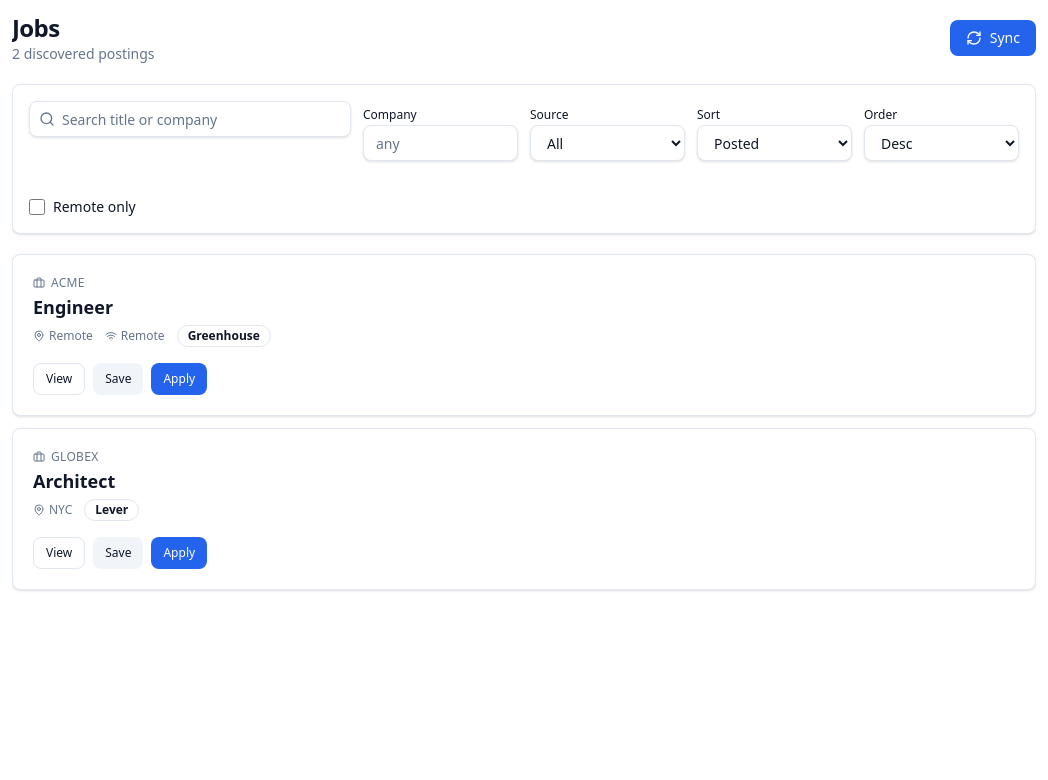
Scenario: Jobs route › client-filters by the search box
Expected: the text "Acme" is shown, 33,274 -> 85,291
Type "Globex" into the field with test id "jobs-search" at (190, 119), box 29,101 -> 351,137
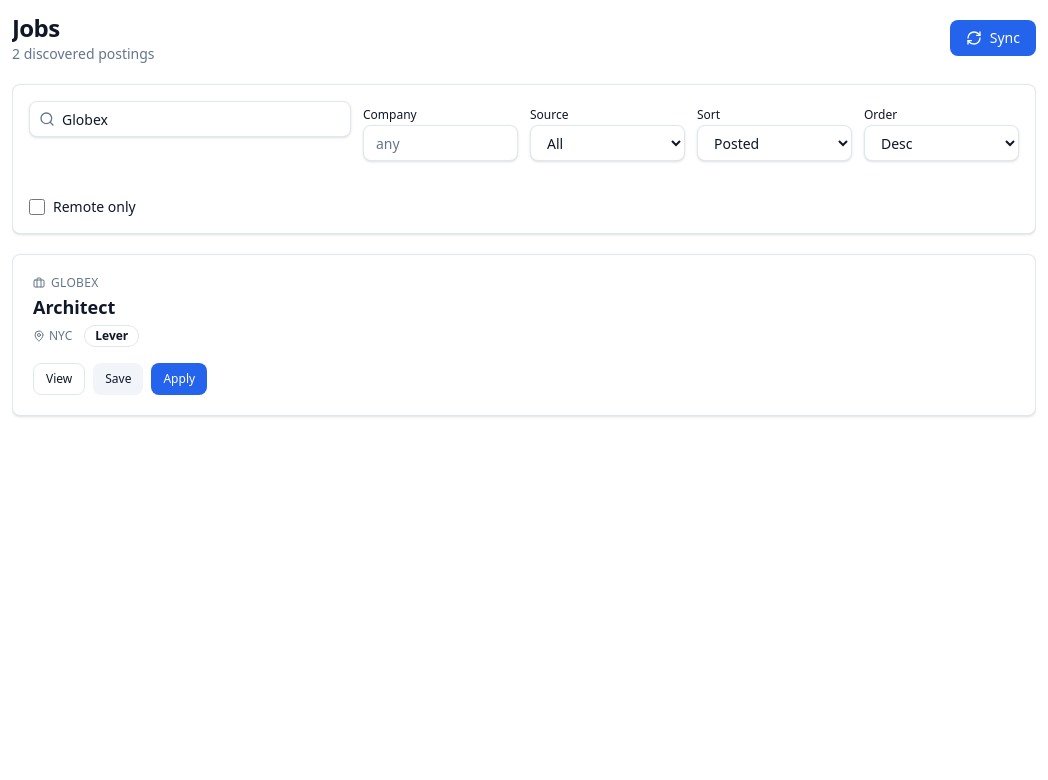
Expected: the text "Globex" is shown, 33,274 -> 98,291
Expected: the text "Acme" is gone
